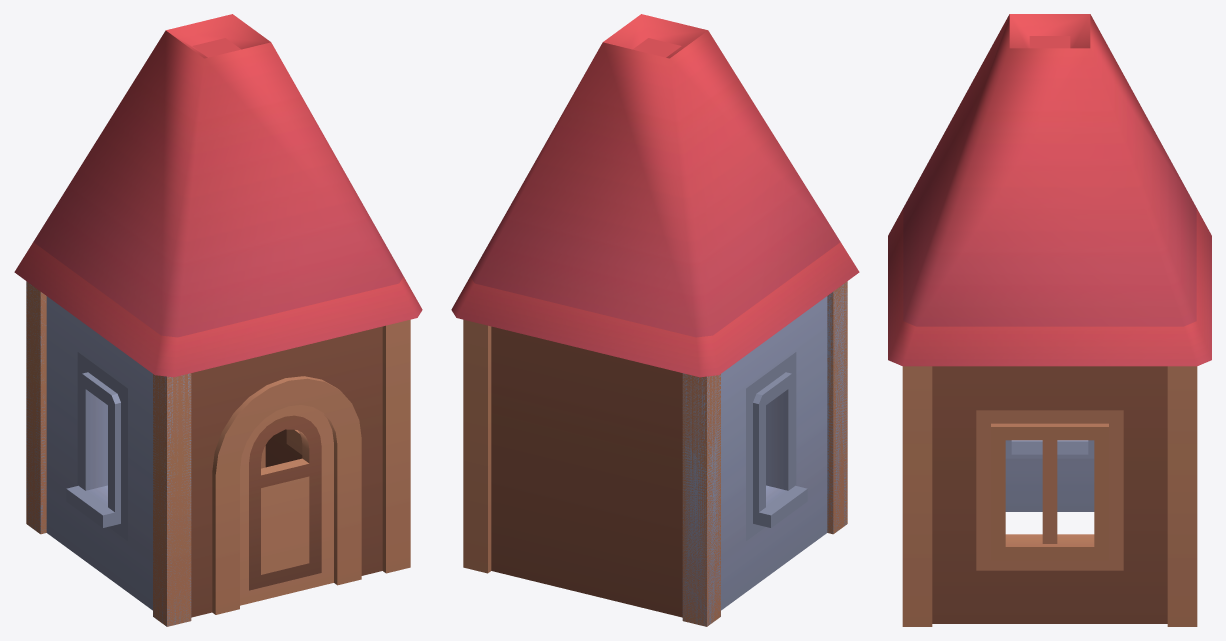
File: human_a.glb
3 renders of one model, left to right at view 1: azimuth 30°, elevation 25°; view 2: azimuth 150°, elevation 25°; view 3: azimuth 270°, elevation 25°, orthographic. The views are drawn at different scales.
Visible parts, largest first — view 1: wall-wood-door; view 2: wall-wood-door; view 3: wall-wood-door.
Part boxes in pixels (box(x1,y1,x2,y2)): wall-wood-door: box(14, 14, 422, 626); wall-wood-door: box(451, 14, 859, 626); wall-wood-door: box(888, 14, 1211, 626).
Size of the model in its own units: 1.1 by 2 by 1.1.
Materials: 1 (1 with a texture image).
